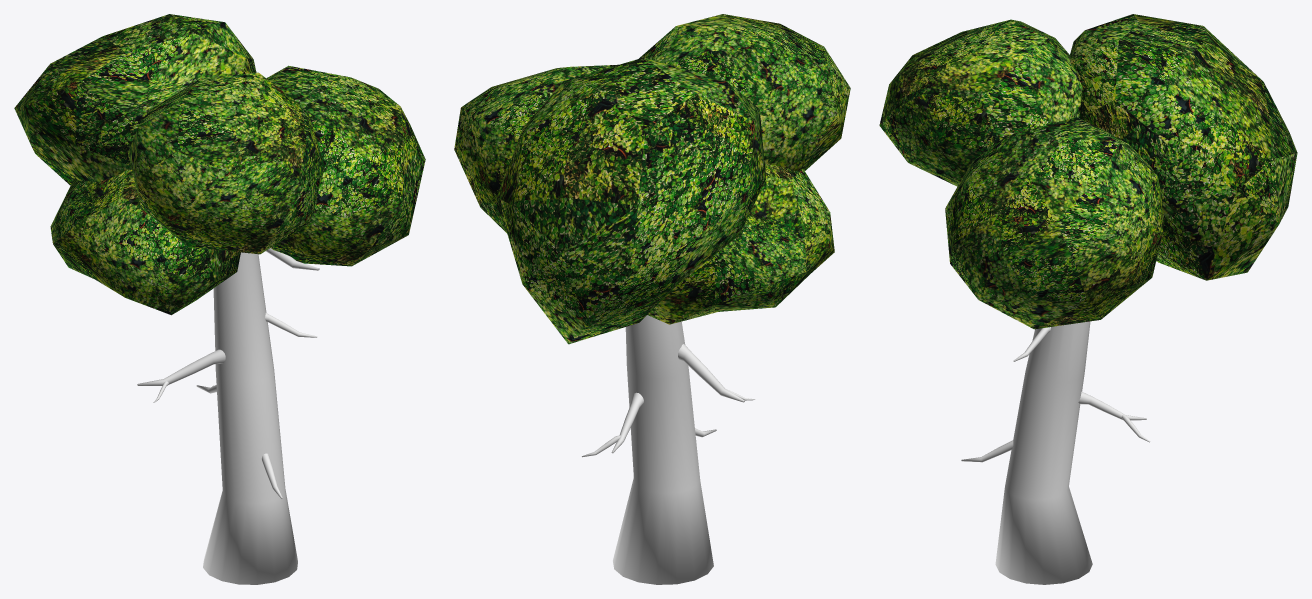
The model's file is agac (2).fbx.
3 renders of one model, left to right at view 1: azimuth 30°, elevation 25°; view 2: azimuth 150°, elevation 25°; view 3: azimuth 270°, elevation 25°, orthographic. The views are drawn at different scales.
Visible parts, largest first — view 1: agac.003; view 2: agac.003; view 3: agac.003.
Boxes of the visible parts, x1,y1,x2,y2 form: agac.003: (14, 14, 425, 584); agac.003: (454, 14, 850, 584); agac.003: (879, 14, 1297, 584).
Bounding box in the file's own units: 888 × 1267 × 933.
